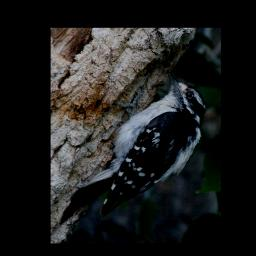Woodpecker: (56, 71, 209, 225)
